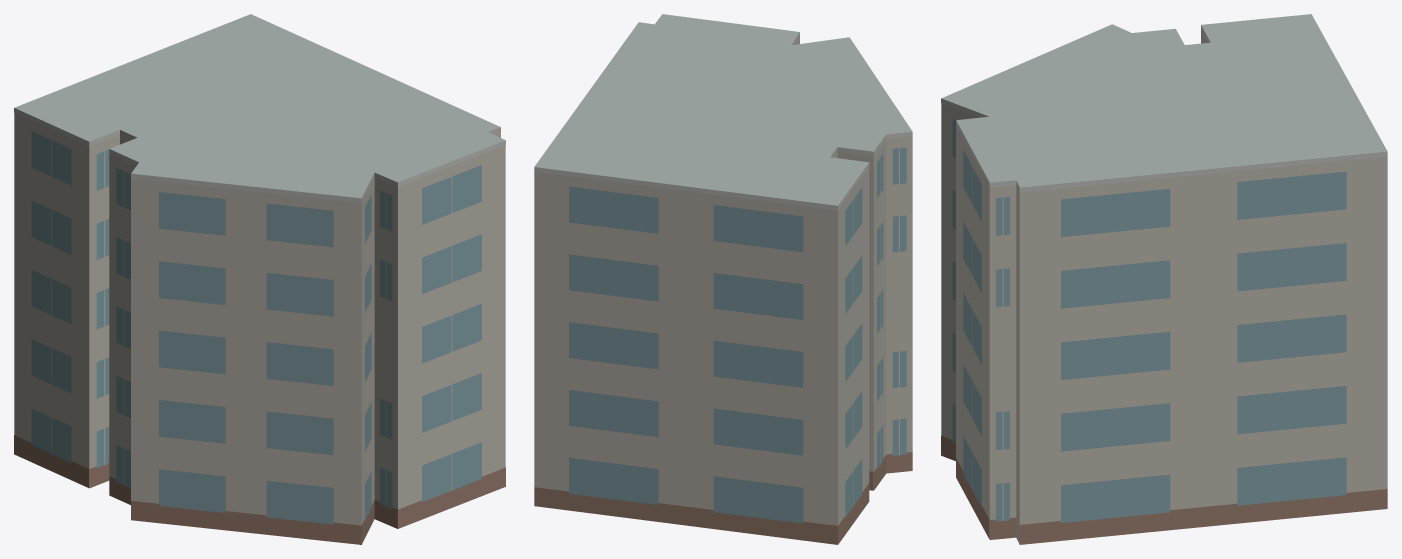
The model's file is survey-upis-32834226.glb.
3 views of the same model, side by side, from view 1: azimuth 30°, elevation 25°; view 2: azimuth 150°, elevation 25°; view 3: azimuth 270°, elevation 25° (orthographic). The views are drawn at different scales.
Parts seen in each view (by area): view 1: survey-upis-32834226.tmp; view 2: survey-upis-32834226.tmp; view 3: survey-upis-32834226.tmp.
Part boxes in pixels (left/top/right/bottom): survey-upis-32834226.tmp: left=14, top=14, right=505, bottom=544; survey-upis-32834226.tmp: left=534, top=14, right=912, bottom=544; survey-upis-32834226.tmp: left=941, top=14, right=1387, bottom=544.
Size of the model in its own units: 18.16 by 17.41 by 19.73.
